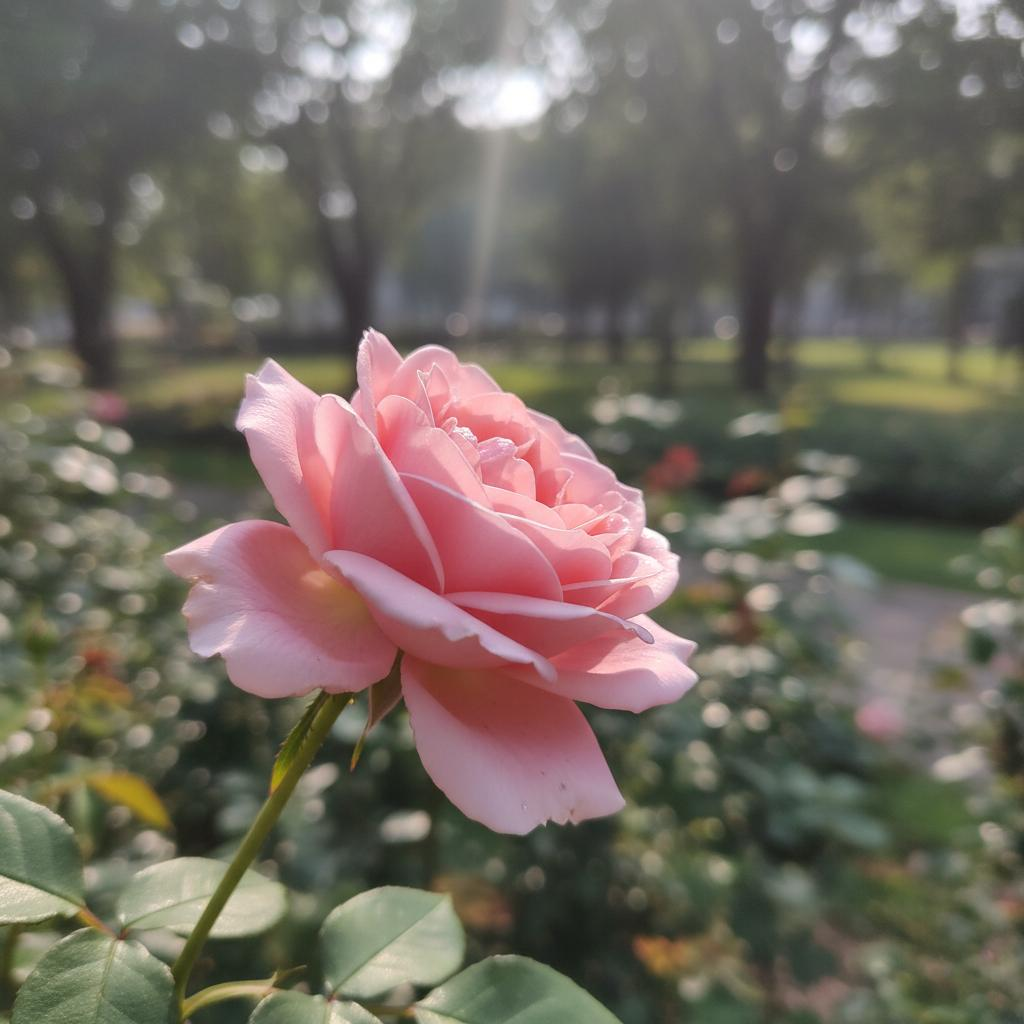rose: (160, 324, 700, 837)
